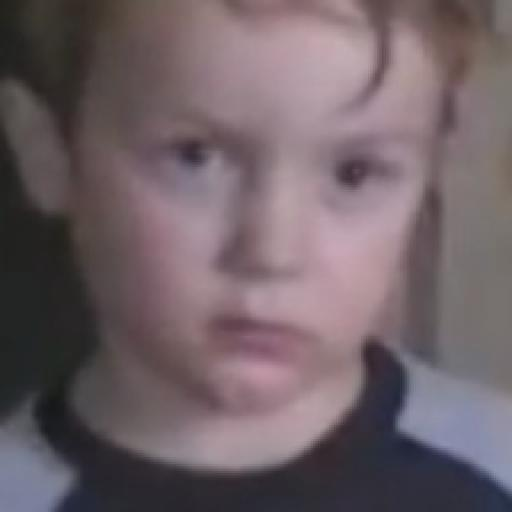Autism: (49, 4, 466, 442)
